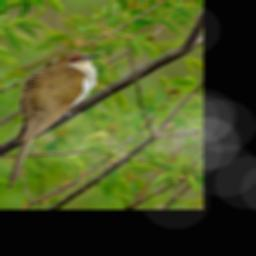Cuckoo: (4, 51, 102, 190)
